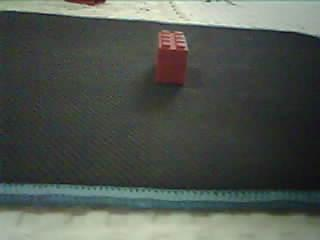lego: (154, 29, 189, 85)
